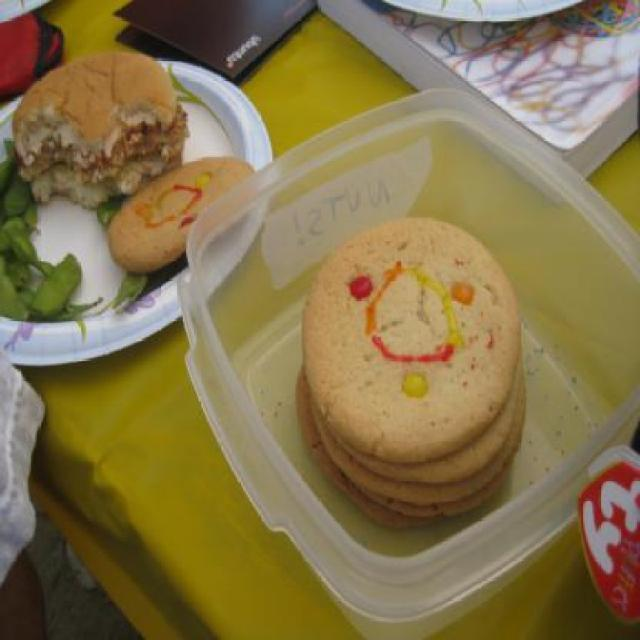Pancake: (303, 217, 522, 465), (297, 361, 520, 534), (104, 156, 260, 276)
